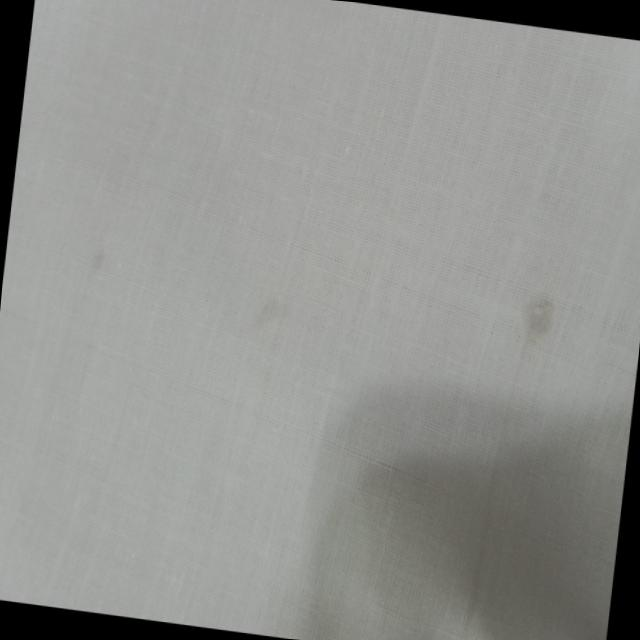stain: (513, 278, 565, 365), (246, 284, 300, 354), (80, 235, 114, 284)
